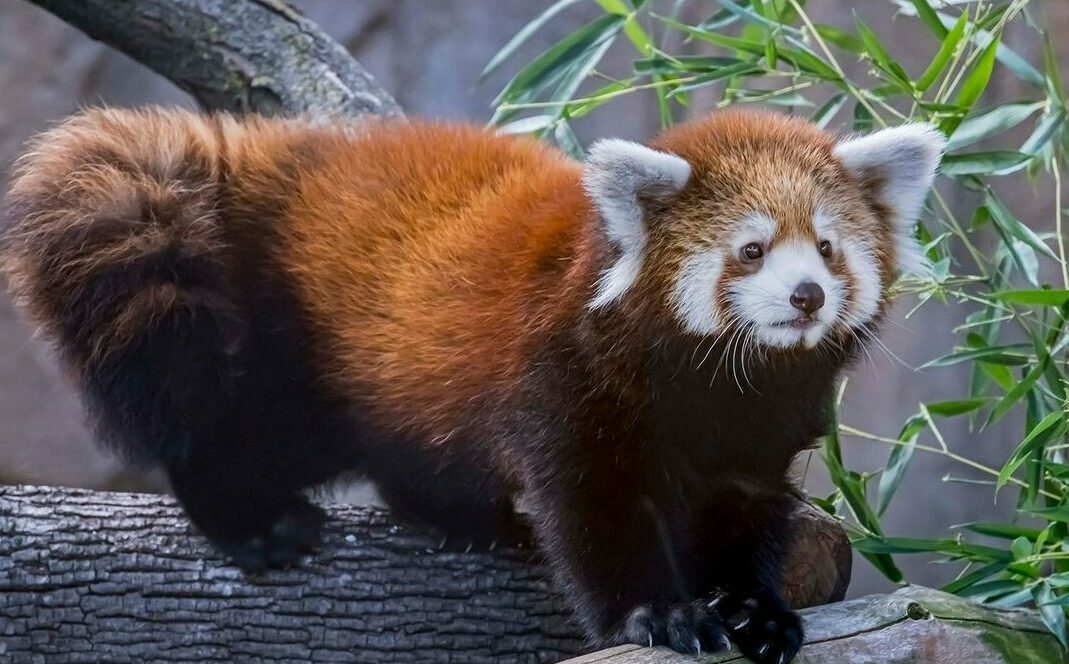Red panda: (586, 106, 951, 356)
